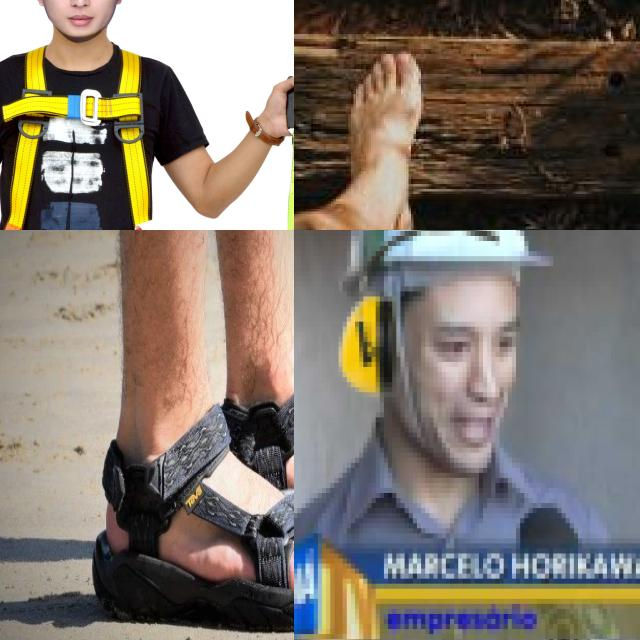Barefoots: (322, 35, 422, 230)
Ear-protection: (326, 278, 399, 414)
Harness: (0, 46, 165, 230)
Sandals: (92, 403, 294, 630)
head_helmet: (325, 230, 569, 281)
